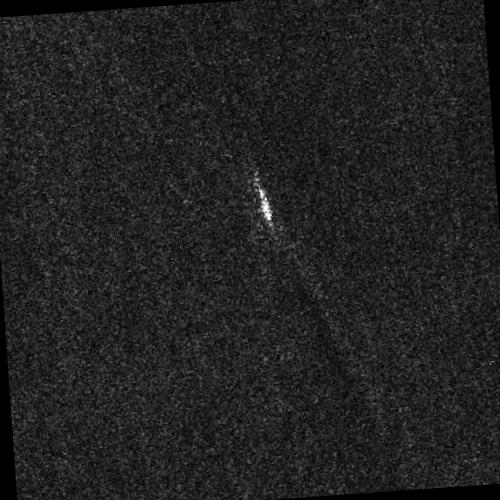ship: (257, 184, 275, 231)
